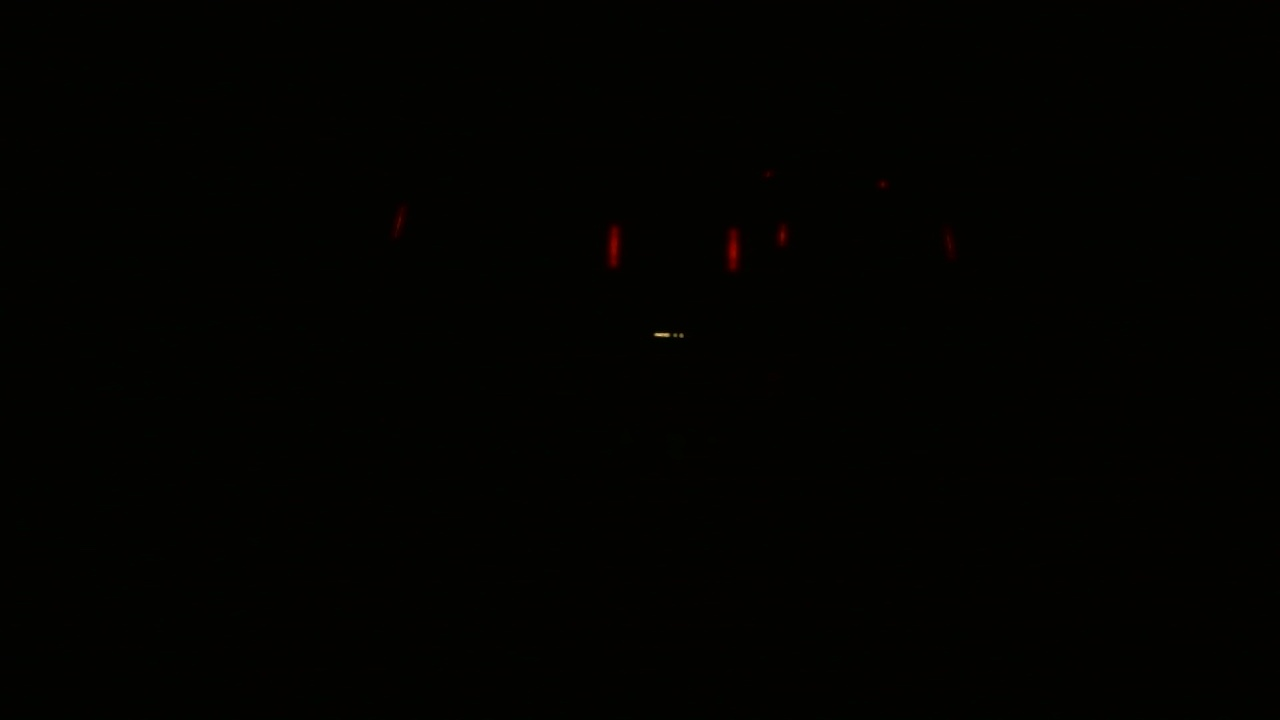pair1: (606, 223, 742, 274)
